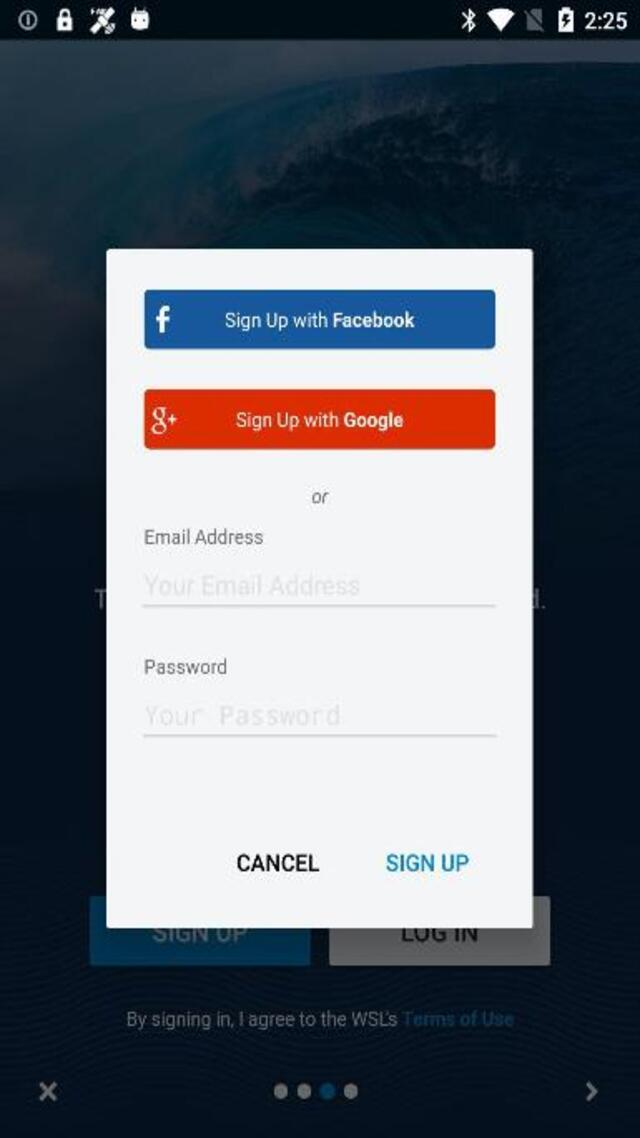Icon: (150, 404, 178, 437), (38, 1082, 58, 1102), (586, 1080, 598, 1100)
Text: (128, 1010, 514, 1030), (143, 574, 359, 596), (223, 310, 419, 330), (146, 705, 340, 725), (236, 410, 409, 432), (143, 527, 263, 546), (142, 659, 230, 676), (387, 854, 468, 872), (237, 854, 318, 872), (153, 304, 176, 336), (312, 492, 330, 504)
TextButton: (143, 390, 495, 449), (143, 289, 494, 348)
